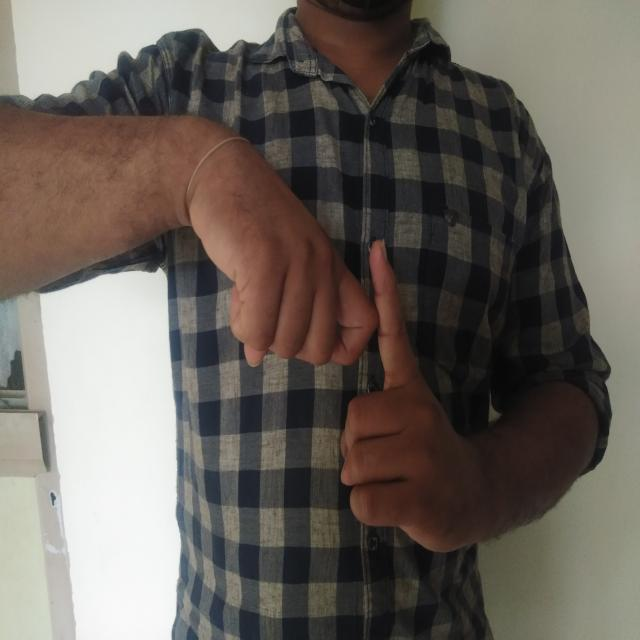K: (185, 115, 508, 577)
